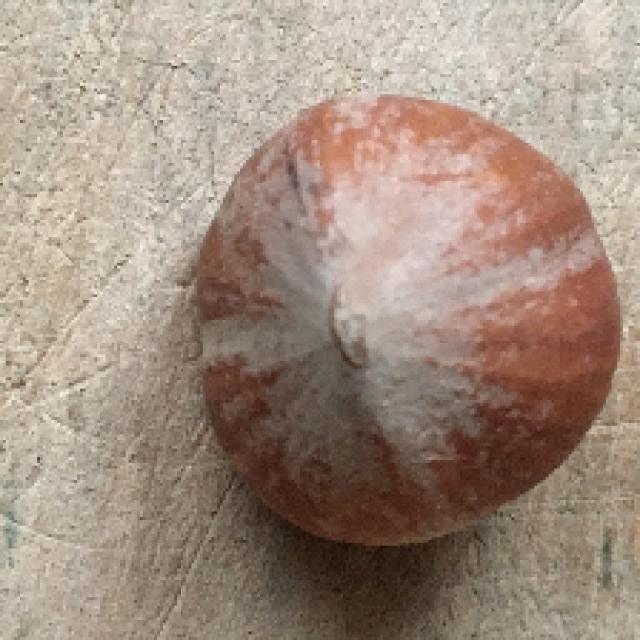qualityHazelnut: (193, 93, 619, 550)
